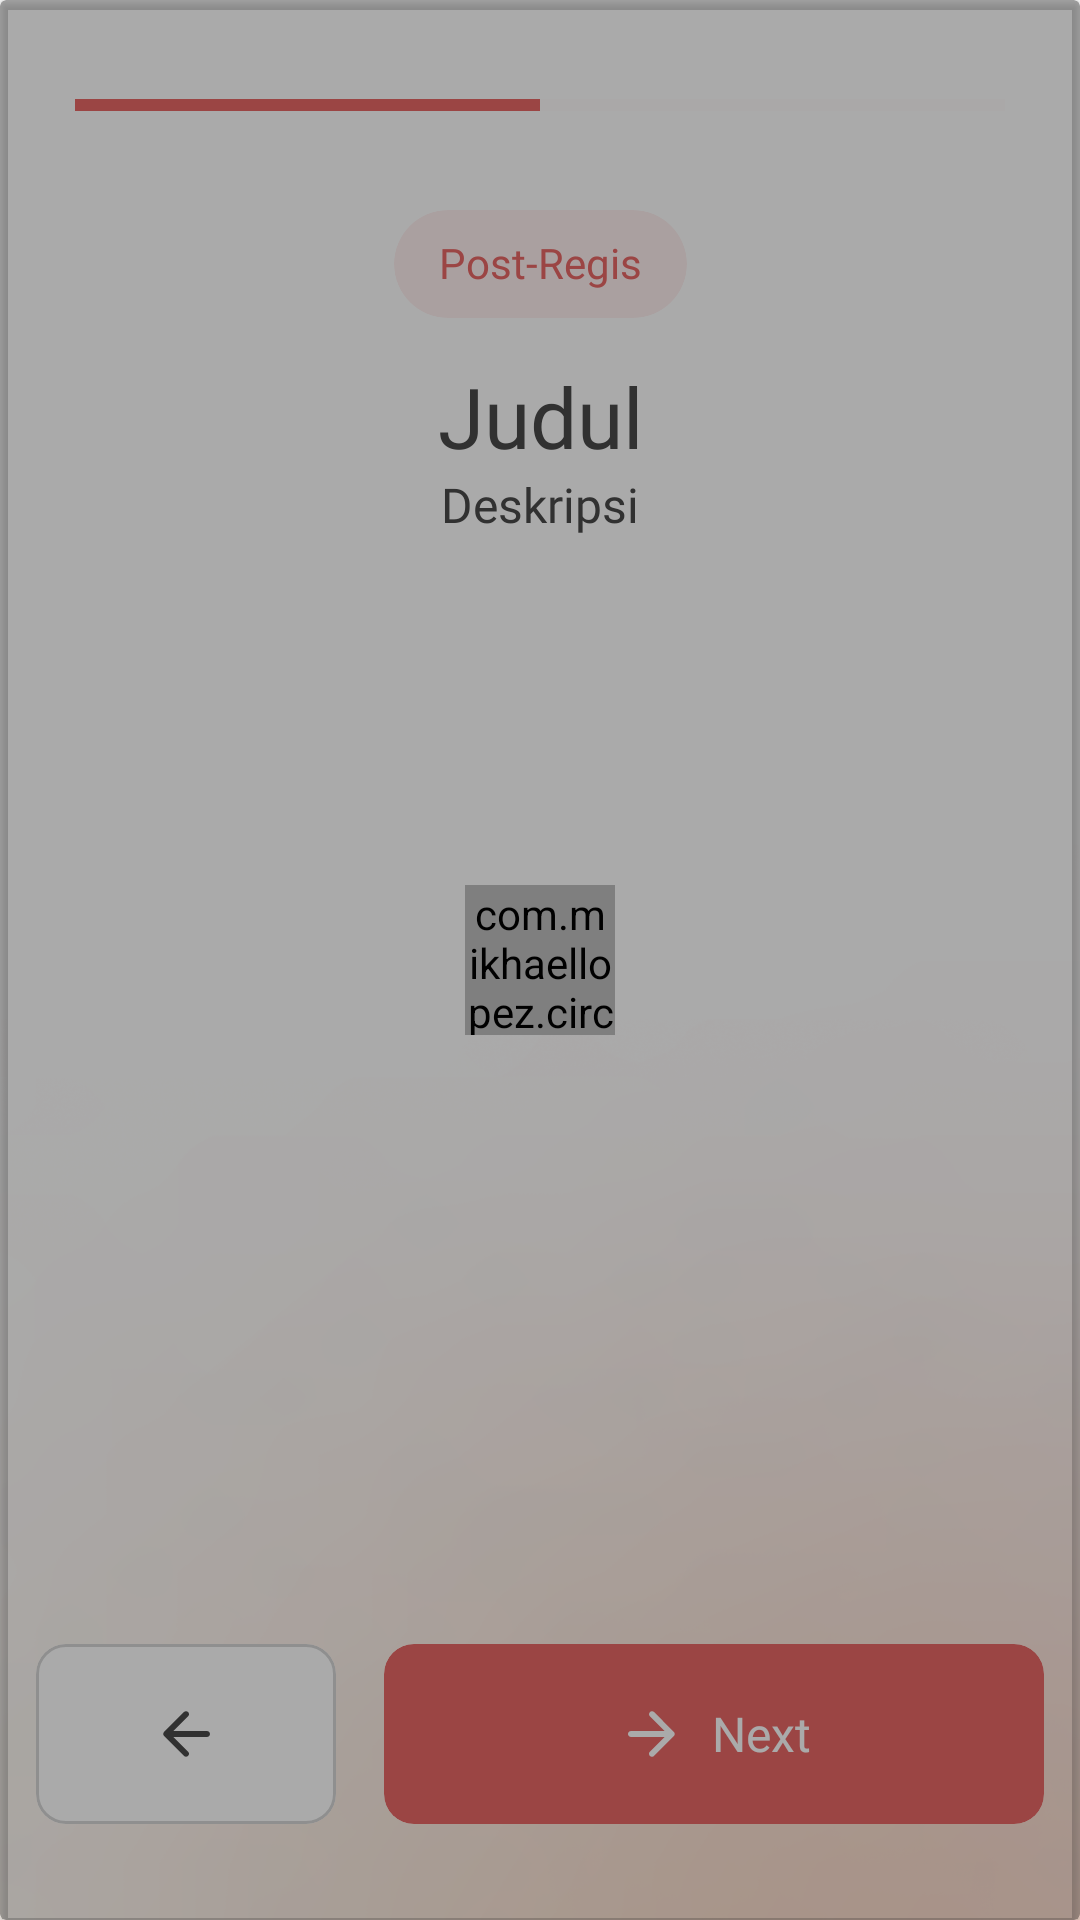

Locate icon controls on the screen. Image size 1080px×1920px, boxes as (x1, y1, x2, y2).
arrow back: (163, 1711, 210, 1757)
arrow forward: (628, 1711, 675, 1757)
